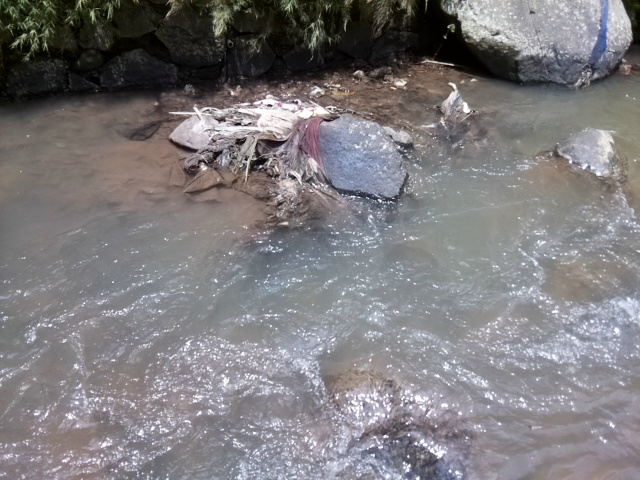Sampah_Plastik: (172, 93, 335, 205)
